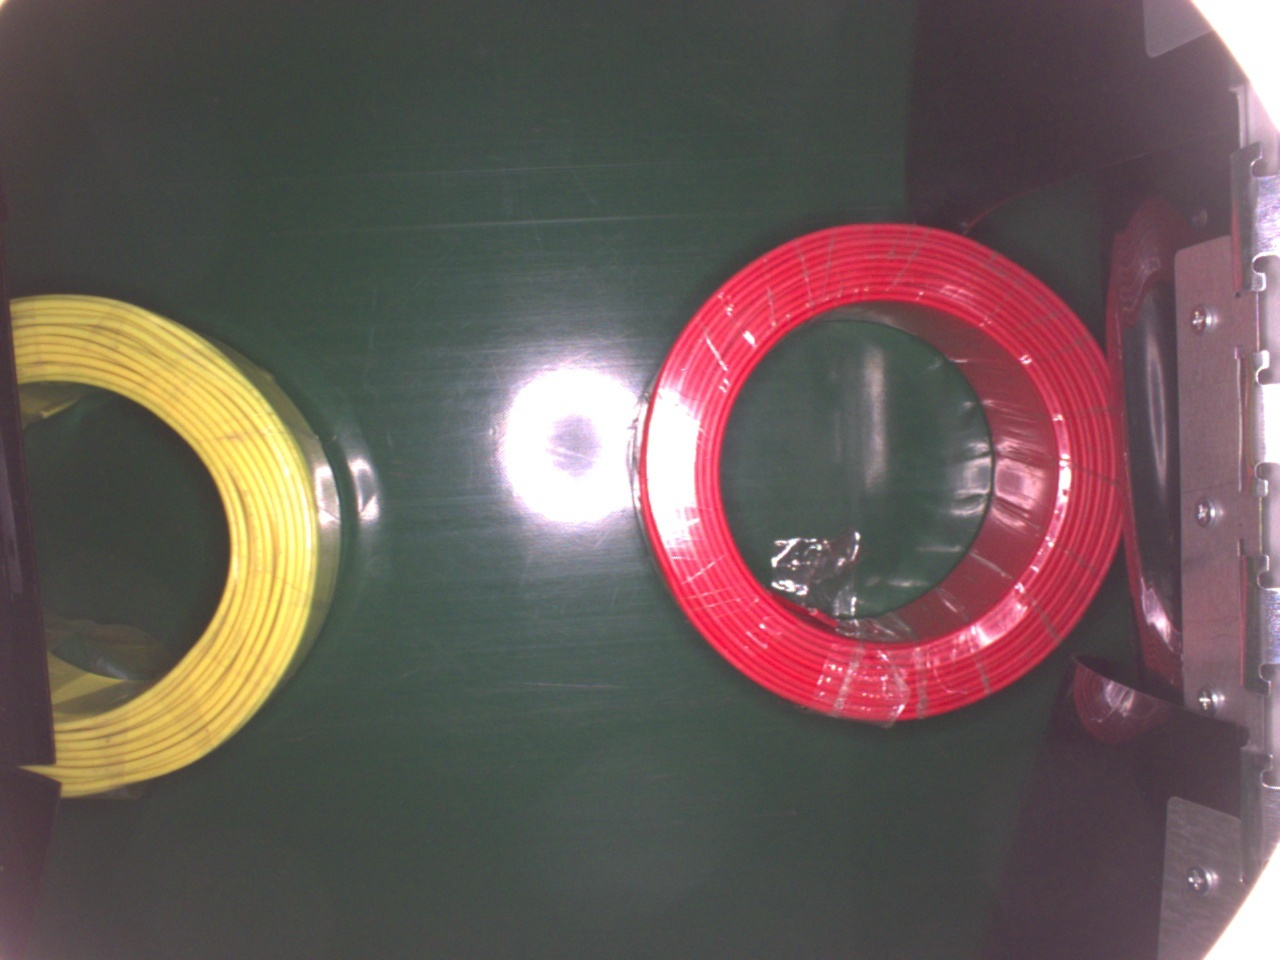red: (625, 213, 1128, 712)
yellow: (9, 293, 338, 798)
